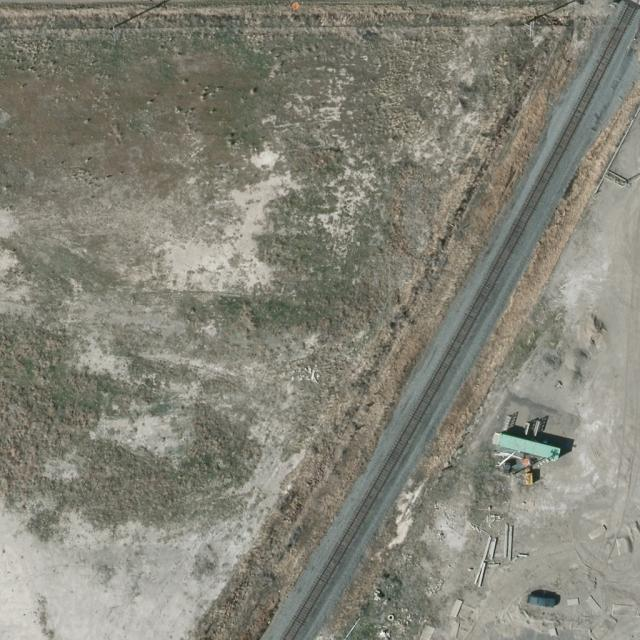vehicle: (527, 594, 558, 610)
